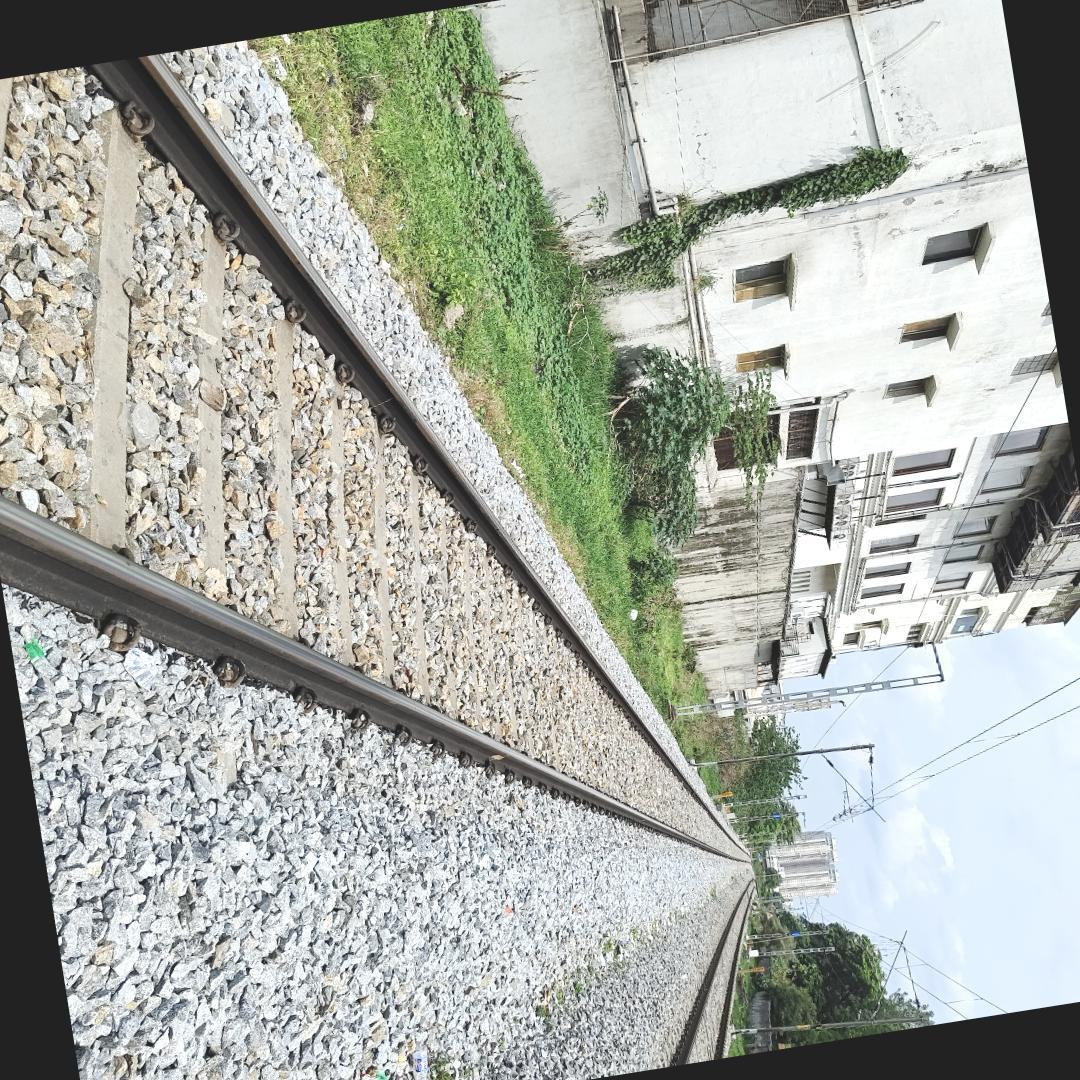track: (0, 49, 756, 865)
